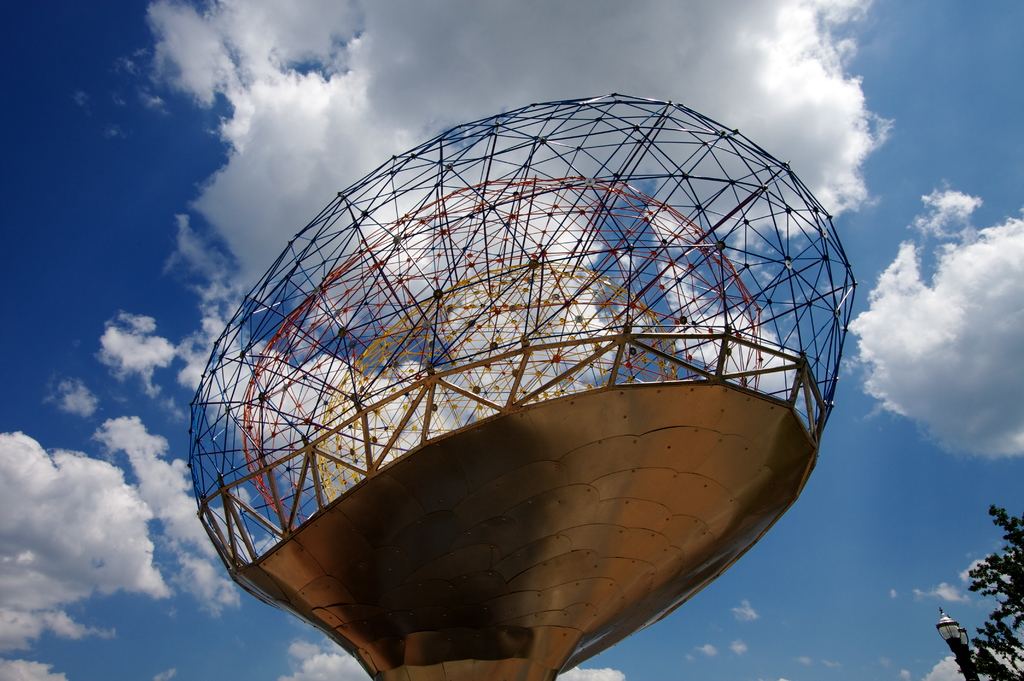Tree: (953, 502, 1024, 681)
